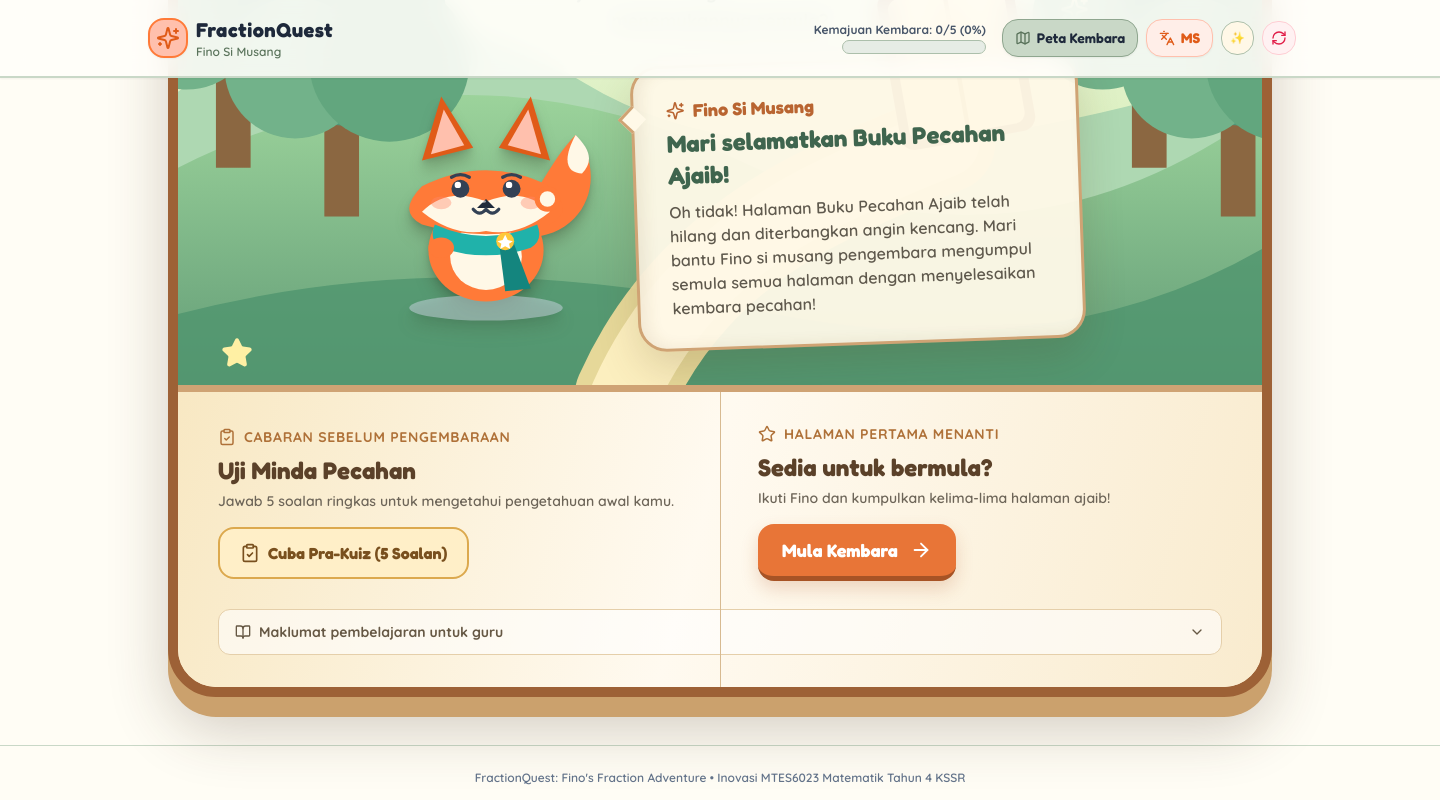
Test: Navigation & Bilingual Switcher Component Tests › switches language dynamically without losing progress when EN button is clicked
(page scrolled)
Note: Click Start Adventure / Mula Kembara
Click the button "Mula Kembara": (857, 552) x1=758 y1=524 x2=956 y2=581
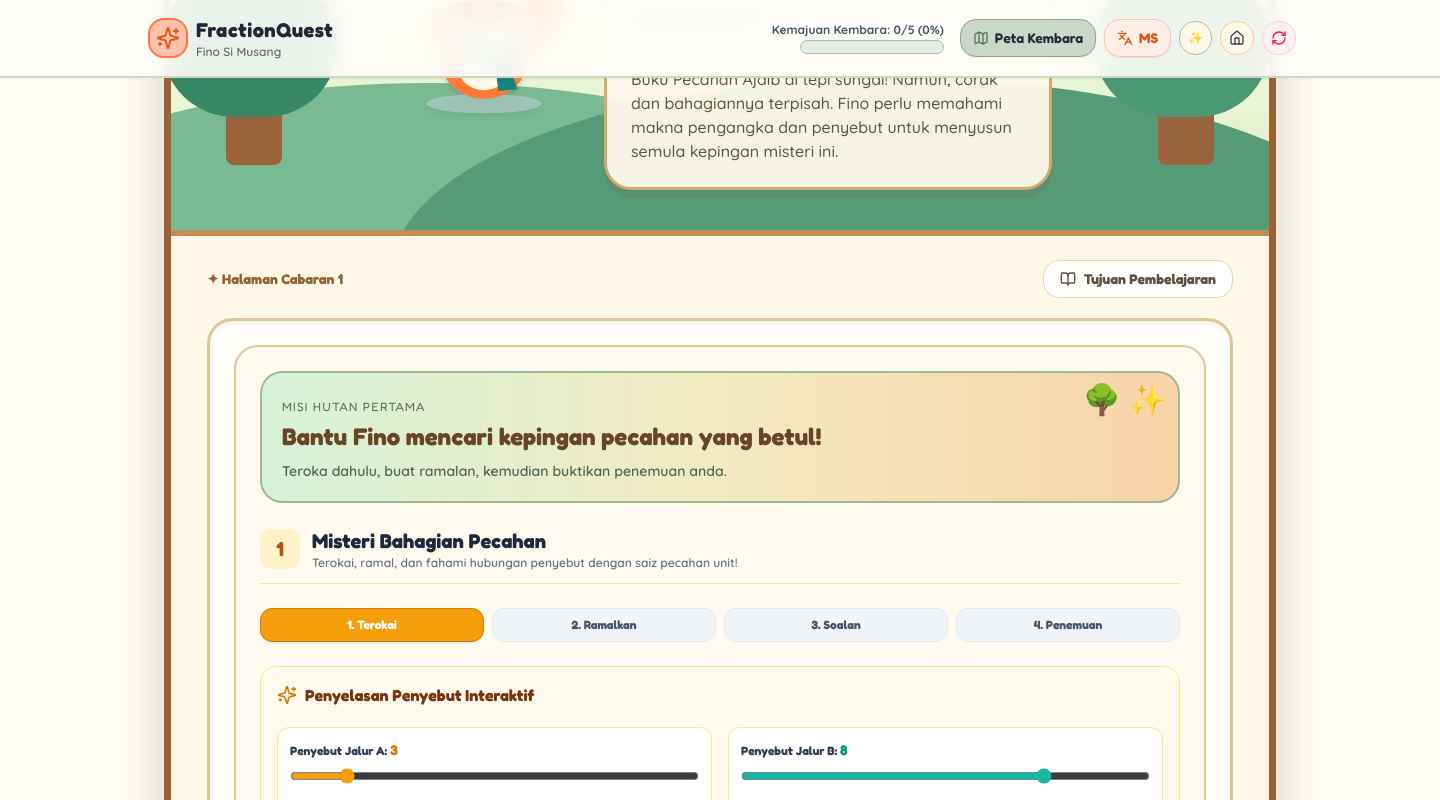
Note: Toggle language to English using header language button
Click the button with aria-label "Switch Language": (1138, 38) x1=1104 y1=19 x2=1171 y2=57
(page scrolled)
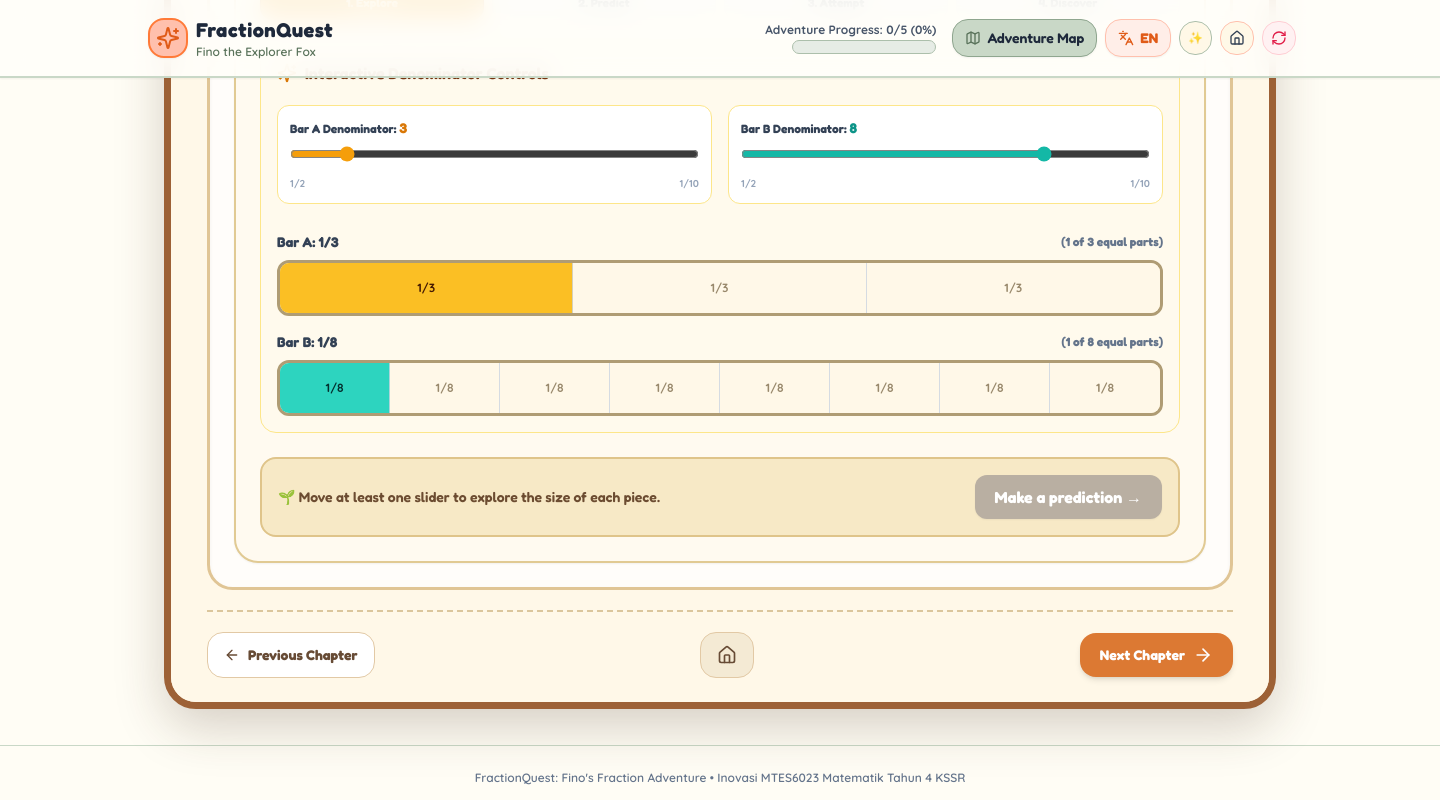
Expected: the button "Previous Chapter" is shown, x1=207 y1=632 x2=375 y2=678
